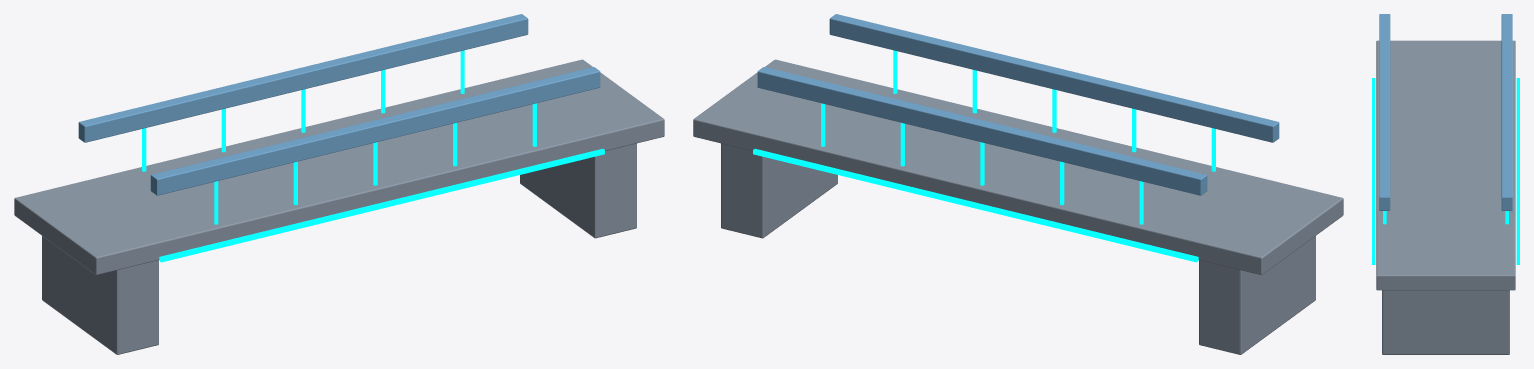
File: bridge_span.glb
The picture shows the model from 3 angles, left to right: view 1: azimuth 30°, elevation 25°; view 2: azimuth 150°, elevation 25°; view 3: azimuth 270°, elevation 25°; orthographic projection. The views are drawn at different scales.
Parts seen in each view (by area): view 1: BridgeRoadDeck, SuspensionArchF, SuspensionArchB, BridgePierL, BridgePierR, ClearanceStripF; view 2: BridgeRoadDeck, SuspensionArchB, SuspensionArchF, BridgePierL, BridgePierR, ClearanceStripB; view 3: BridgeRoadDeck, BridgePierR, SuspensionArchB, SuspensionArchF, ClearanceStripB, ClearanceStripF.
Boxes of the visible parts, x1,y1,x2,y2 form: BridgeRoadDeck: (14,59,664,275); SuspensionArchF: (150,67,600,195); SuspensionArchB: (78,14,528,142); BridgePierL: (42,236,158,354); BridgePierR: (520,143,636,238); ClearanceStripF: (159,148,604,262); BridgeRoadDeck: (693,59,1343,275); SuspensionArchB: (757,67,1207,195); SuspensionArchF: (829,14,1279,142); BridgePierL: (1199,236,1315,354); BridgePierR: (721,143,837,238); ClearanceStripB: (753,148,1198,262); BridgeRoadDeck: (1376,40,1515,290); BridgePierR: (1382,290,1509,354); SuspensionArchB: (1501,14,1512,210); SuspensionArchF: (1379,14,1390,210); ClearanceStripB: (1516,78,1519,264); ClearanceStripF: (1372,78,1375,264).
Bounding box in the file's own units: 48 × 13.56 × 12.76.
